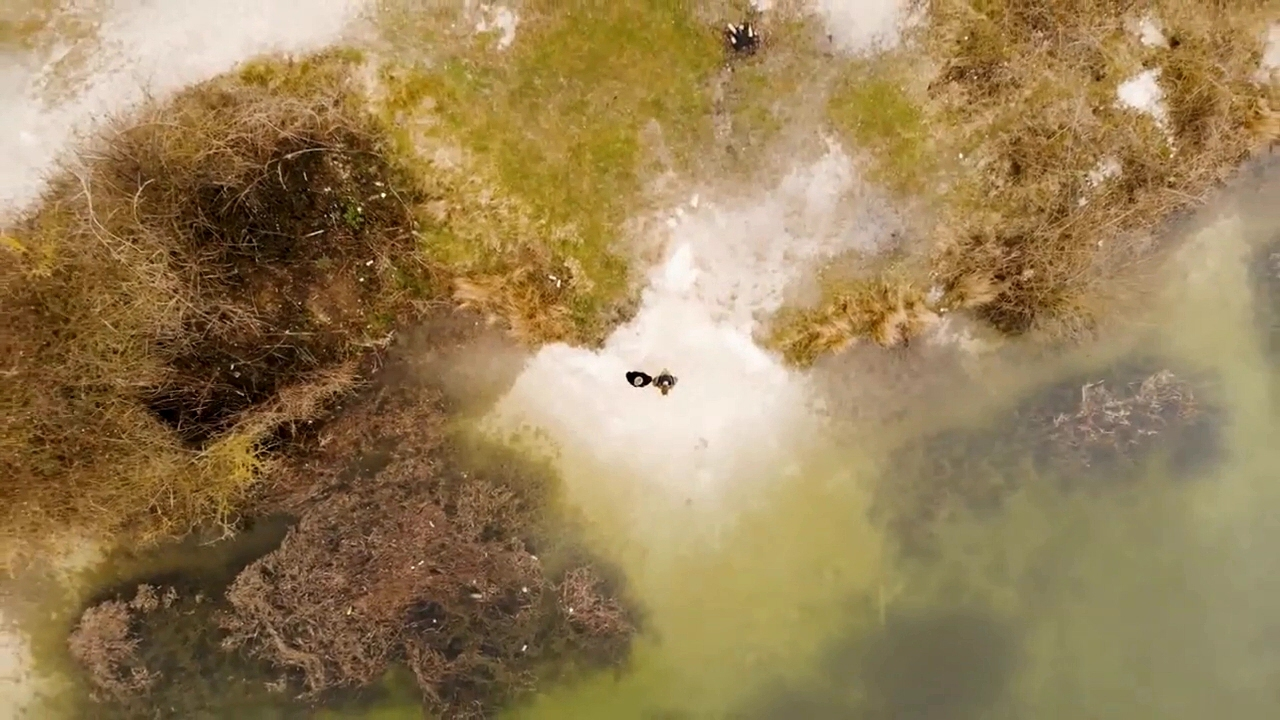insan: (650, 368, 680, 398), (624, 365, 653, 393)
